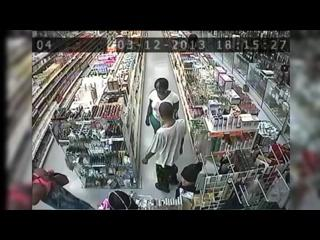Normal: (142, 102, 186, 194), (144, 78, 180, 134)
